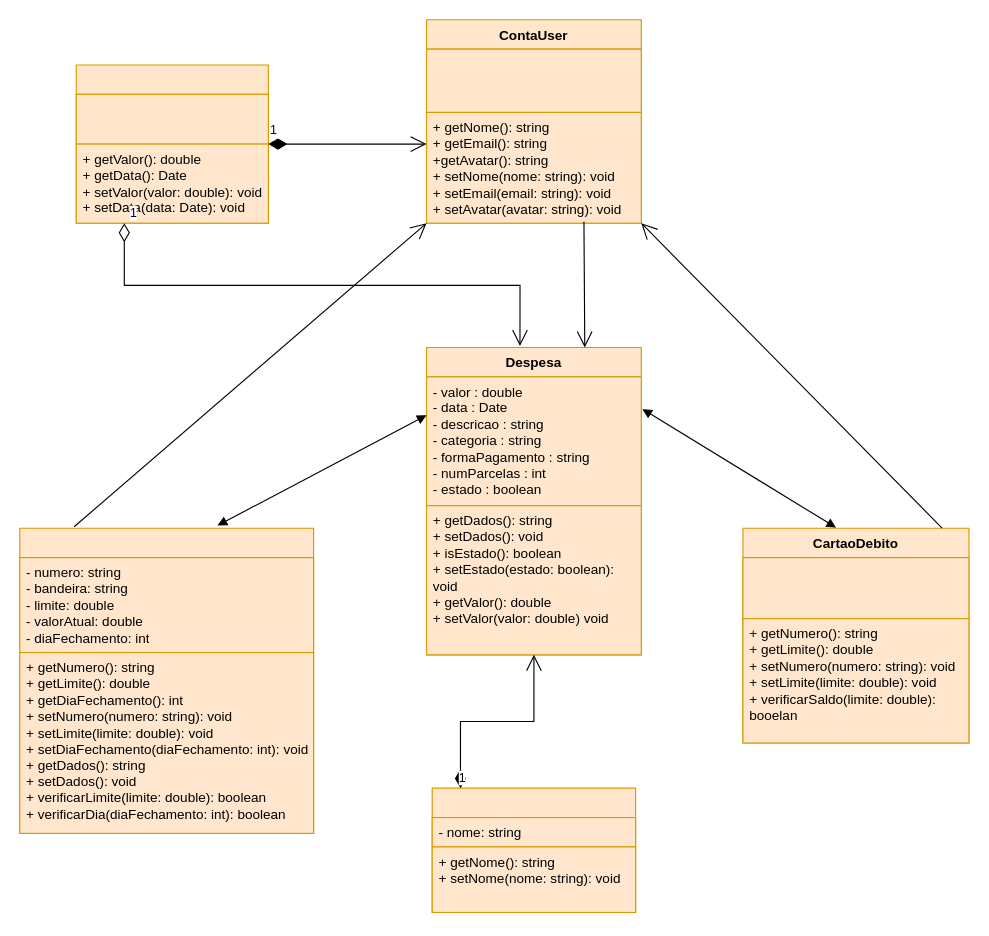
The diagram is 989 pixels wide and 936 high, and some of its shapes have lost their labels. The box of each missing label's shape, as (x1, y1, x2, y2) in pixels:
- nome : string - email : string - avatar : string: (425, 48, 641, 112)
- numero: string - bandeira: string - limite: double: (742, 557, 969, 619)
- valor: double - data: Date: (75, 93, 268, 144)
CartaoCredito: (19, 527, 314, 833)
Categoria: (431, 787, 636, 912)
Receita: (75, 64, 268, 223)
